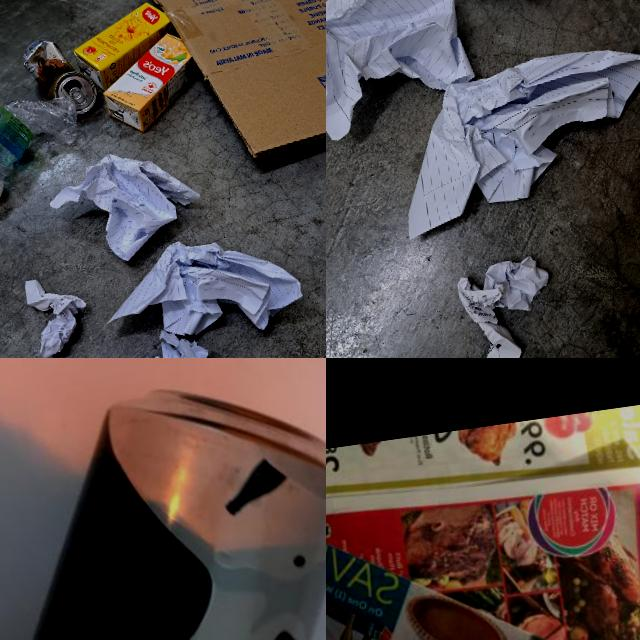aba de lata: (64, 84, 89, 115)
caixinha: (99, 29, 203, 135), (70, 0, 174, 89)
garrafa plástica: (0, 86, 86, 205)
lata: (0, 360, 326, 640), (19, 28, 96, 125)
papel: (326, 396, 640, 640), (387, 40, 640, 242), (97, 224, 306, 352), (326, 0, 482, 144), (44, 143, 210, 270), (453, 253, 563, 358), (19, 268, 93, 358), (133, 321, 233, 358)
papelão: (110, 0, 326, 174)
